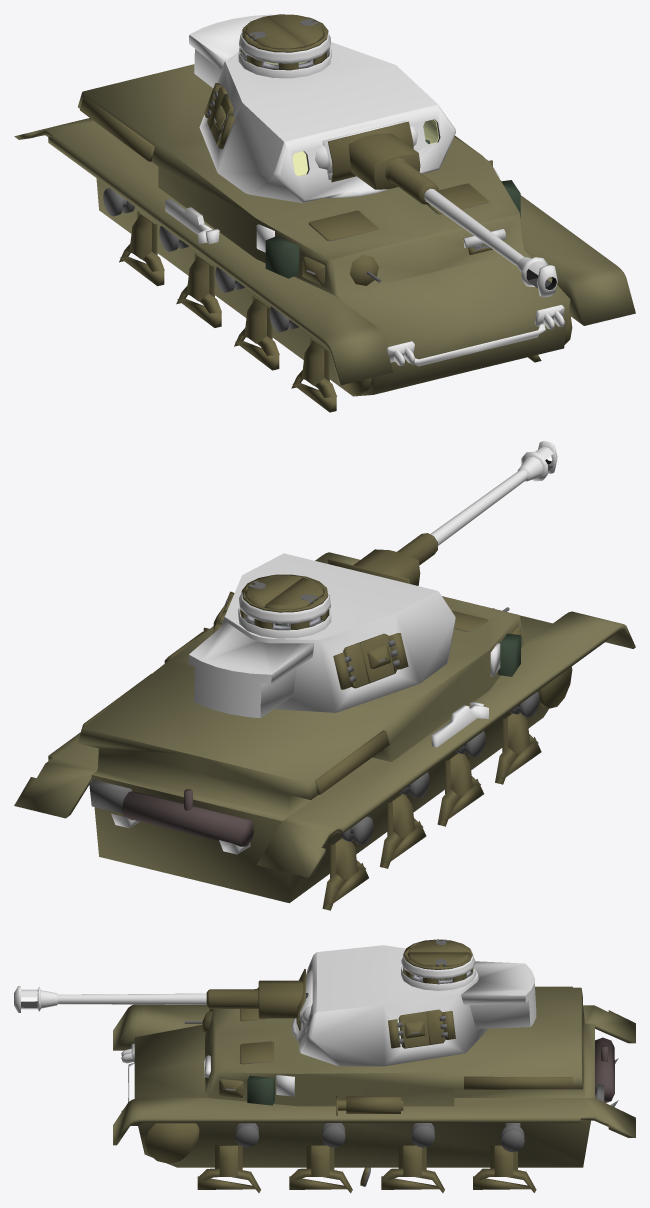
The model's file is pzIV_new.glb.
3 renders of one model, top to bottom at view 1: azimuth 30°, elevation 25°; view 2: azimuth 150°, elevation 25°; view 3: azimuth 270°, elevation 25°, orthographic. The views are drawn at different scales.
Parts seen in each view (by area): view 1: hull_exterior, turret_exterior, hull_details, gun, barrel, cupola_exterior, return_rollers, radioman_hatch, box_right, cmdr_hatch_right, cmdr_hatch_left, driver_hatch (+3 smaller); view 2: hull_exterior, turret_exterior, hull_details, exhaust, barrel, gun, cupola_exterior, return_rollers, cmdr_hatch_right, cmdr_hatch_left, turret_door_loader_front, box_back (+2 smaller); view 3: hull_exterior, turret_exterior, hull_details, gun, barrel, return_rollers, cupola_exterior, exhaust, cmdr_hatch_left, box_left, turret_door_gunner_front, driver_hatch (+6 smaller).
Part boxes in pixels (x1,y1,x2,y2): hull_exterior: (14,64,635,396); turret_exterior: (189,14,455,203); hull_details: (80,97,564,412); gun: (328,121,438,204); barrel: (424,188,557,297); cupola_exterior: (238,29,331,78); return_rollers: (103,188,299,332); radioman_hatch: (308,210,378,241); box_right: (265,236,299,278); cmdr_hatch_right: (245,16,304,48); cmdr_hatch_left: (266,14,323,46); driver_hatch: (427,183,488,214); hull_exterior: (14,552,635,903); turret_exterior: (188,553,455,718); hull_details: (80,627,541,910); exhaust: (121,789,253,846); barrel: (430,441,557,545); gun: (327,533,437,585); cupola_exterior: (238,589,331,638); return_rollers: (341,691,539,844); cmdr_hatch_right: (264,577,323,609); cmdr_hatch_left: (245,575,302,607); turret_door_loader_front: (359,633,400,683); box_back: (89,779,131,813); hull_exterior: (113,986,635,1167); turret_exterior: (291,945,536,1066); hull_details: (121,986,618,1193); gun: (206,969,305,1030); barrel: (14,986,206,1012); return_rollers: (235,1123,524,1152); cupola_exterior: (401,950,475,990); exhaust: (595,1037,614,1102); cmdr_hatch_left: (407,952,470,966); box_left: (247,1075,275,1105); turret_door_gunner_front: (397,1011,429,1048); driver_hatch: (240,1041,273,1064).
Bounding box in the file's own units: 3.03 × 2.87 × 6.94.
